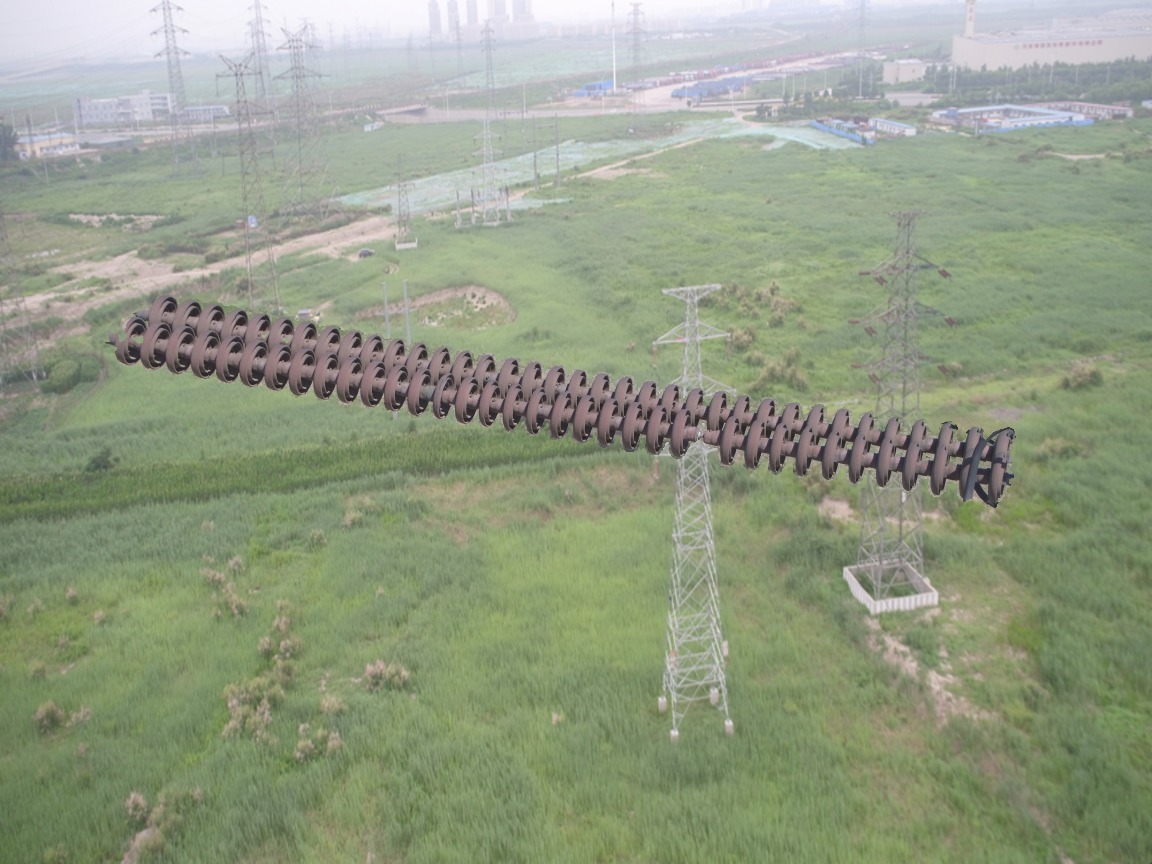defect: (663, 412, 744, 466)
